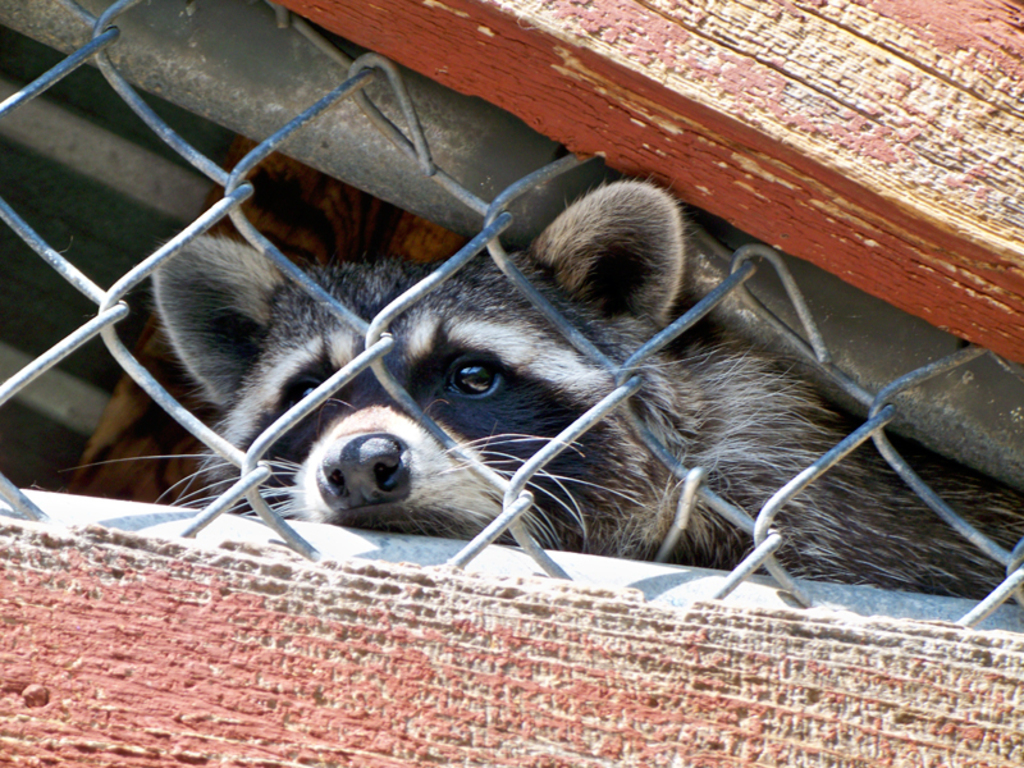raccoon: (153, 182, 1024, 600)
